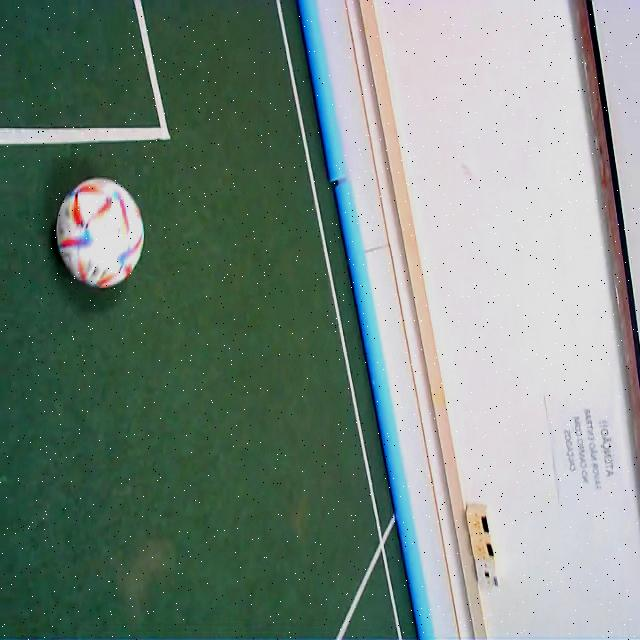ball: (56, 178, 144, 288)
